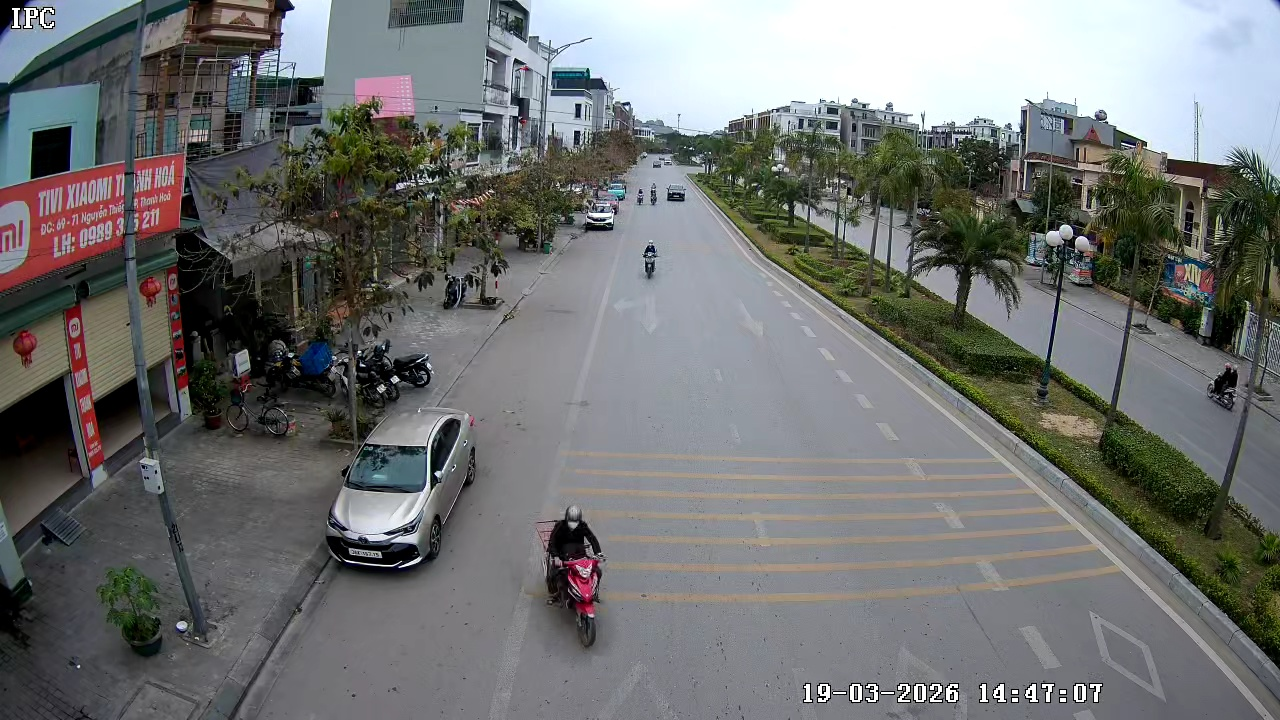car: (326, 404, 478, 572), (582, 201, 618, 231), (666, 181, 687, 202)
motorbike: (539, 503, 609, 649), (384, 328, 434, 388), (1205, 360, 1240, 413), (640, 240, 659, 279), (638, 183, 656, 205)
